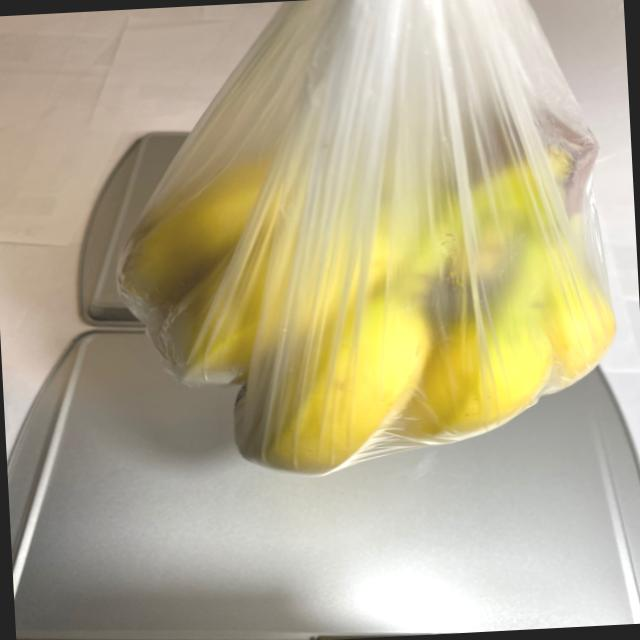banana: (90, 76, 624, 486)
